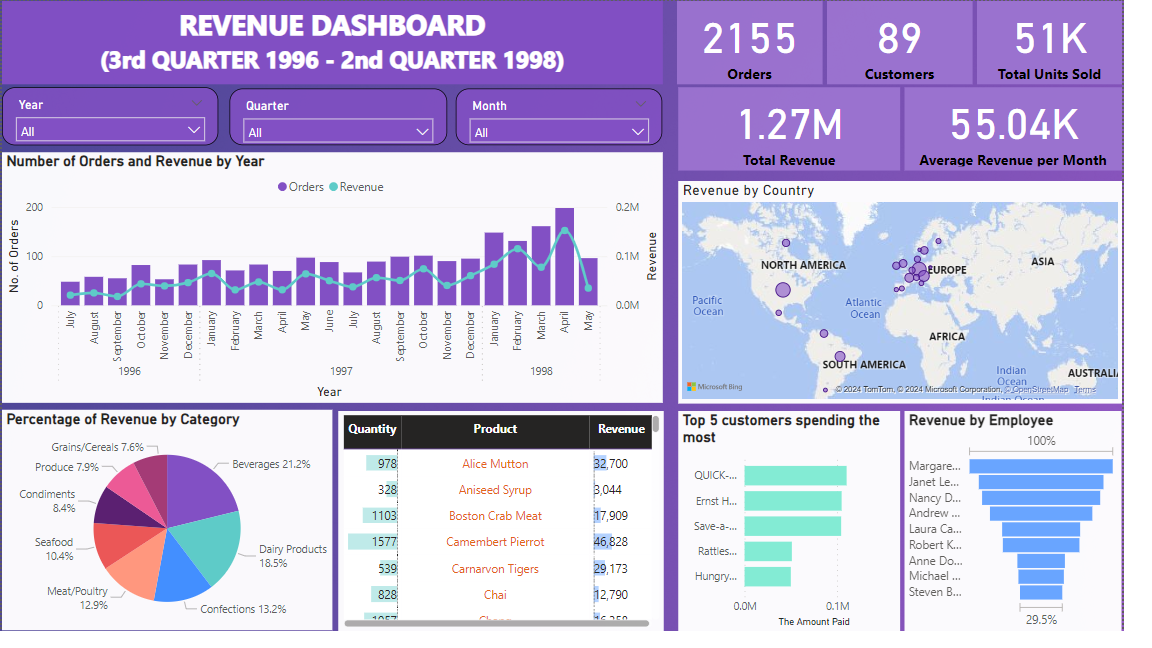

The page's visual inventory and layout, read from the dashboard file:
{"tool":"powerbi","page":{"name":"Page 1","canvas":[1280,720],"ordinal":0},"visuals":[{"type":"lineClusteredColumnComboChart","title":"Number of Orders and Revenue by Year","fields":{"Category":["Data.Date.Variation.Date Hierarchy.Year","Data.Date.Variation.Date Hierarchy.Month"],"Y2":["Data.Revenue"],"Y":["Data.Number of Orders"]},"box":[0,173.3,755.6,286.7],"z":0},{"type":"map","title":"Revenue by Country","fields":{"Category":["Data.Country"],"Size":["Data.Revenue"]},"box":[772.7,205.5,507.3,254.5],"z":1000},{"type":"pieChart","title":"Percentage of Revenue by Category","fields":{"Category":["Data.Category"],"Y":["Data.Revenue"]},"box":[0,467.8,377.8,252.2],"z":2000},{"type":"tableEx","fields":{"Values":["Data.Quantity","Data.Product","Data.Revenue"]},"box":[384,468,372,252],"z":3000},{"type":"clusteredBarChart","title":"Top 5 customers spending the most","fields":{"Category":["Data.Customer"],"Y":["Data.Revenue"]},"box":[772.7,468.2,253.6,251.8],"z":4000},{"type":"funnel","title":"Revenue by Employee","fields":{"Category":["Data.Employee"],"Y":["Data.Revenue"]},"box":[1031.8,468.2,248.2,251.8],"z":5000},{"type":"textbox","box":[0,0,755,95],"z":6000},{"type":"card","fields":{"Values":["Data.Revenue"]},"box":[772.3,99.2,253.8,95.4],"z":7000},{"type":"card","fields":{"Values":["Data.Quantity"]},"box":[1114,0,166,95],"z":8000},{"type":"card","fields":{"Values":["Data.Number of Orders"]},"box":[772,0,166,95],"z":9000},{"type":"card","fields":{"Values":["Data.Customer"]},"box":[943,0,166,95],"z":10000},{"type":"card","fields":{"Values":["Data.Measure"]},"box":[1031.5,99.2,248.5,95.4],"z":11000},{"type":"slicer","fields":{"Values":["Data.Date.Variation.Date Hierarchy.Year"]},"box":[0,98.8,247.5,66.2],"z":12000},{"type":"slicer","fields":{"Values":["Data.Date.Variation.Date Hierarchy.Quarter"]},"box":[260,100,248.8,65],"z":13000},{"type":"slicer","fields":{"Values":["Data.Date.Variation.Date Hierarchy.Month"]},"box":[518.8,100,236.2,65],"z":14000}]}

Visuals, with their boxes in screenshot pixels (x1, y1, x2, y2), scaled from the page's 1280x720 canvas onto the 1152x648 screenshot:
"Number of Orders and Revenue by Year" lineClusteredColumnComboChart: 0,156,680,414
"Revenue by Country" map: 695,185,1151,414
"Percentage of Revenue by Category" pieChart: 0,421,340,647
tableEx - Data.Quantity x Data.Product: 346,421,680,647
"Top 5 customers spending the most" clusteredBarChart: 695,421,924,647
"Revenue by Employee" funnel: 929,421,1151,647
textbox: 0,0,680,86
card - Data.Revenue: 695,89,923,175
card - Data.Quantity: 1003,0,1151,86
card - Data.Number of Orders: 695,0,844,86
card - Data.Customer: 849,0,998,86
card - Data.Measure: 928,89,1151,175
slicer - Data.Date.Variation.Date Hierarchy.Year: 0,89,223,148
slicer - Data.Date.Variation.Date Hierarchy.Quarter: 234,90,458,148
slicer - Data.Date.Variation.Date Hierarchy.Month: 467,90,680,148
